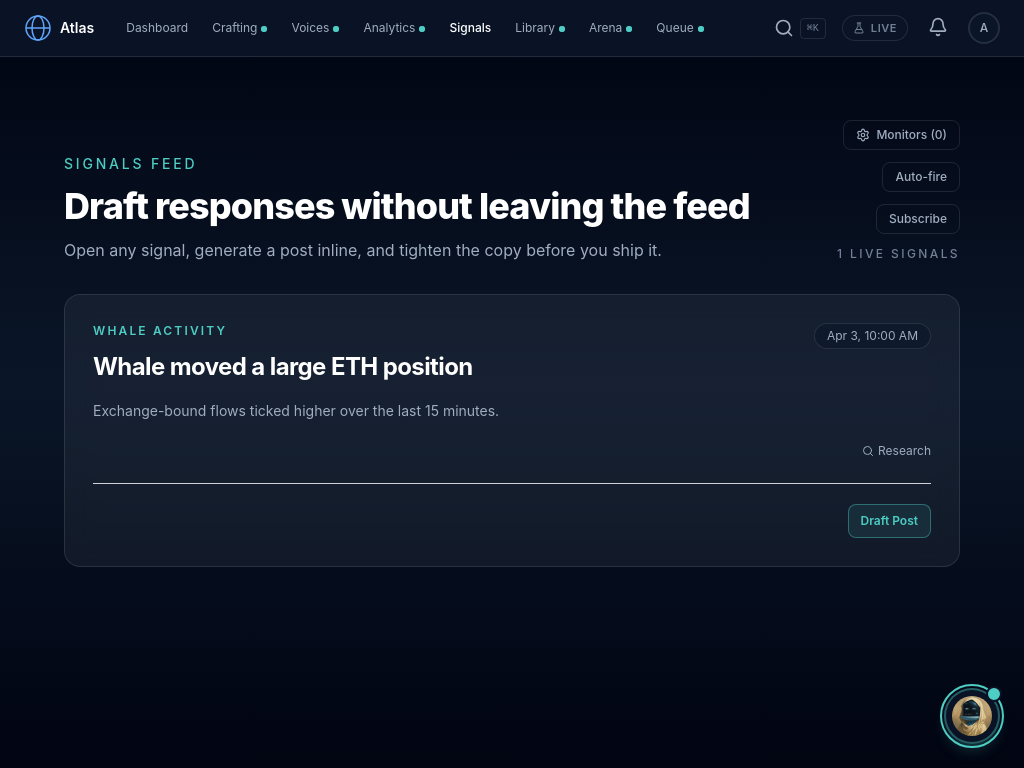
Test: AlertsPage › conducts inline research for an alert without leaving the feed
The width and height of the screenshot is (1024, 768).
Click the button "Research" at (896, 451), box [862,443,931,459]
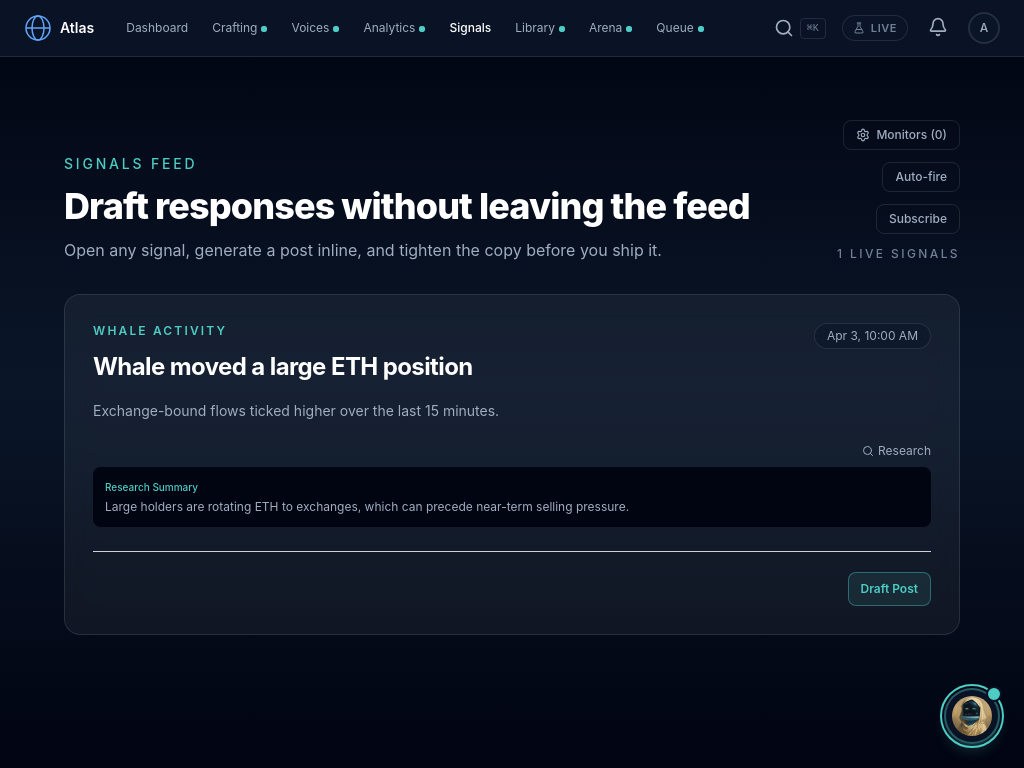
Expected: the text "Research Summary" is shown, [105,481,198,493]
Expected: the text "Large holders are rotating ETH to exchanges, which can precede near-term selling pressure." is shown, [105,499,629,514]
